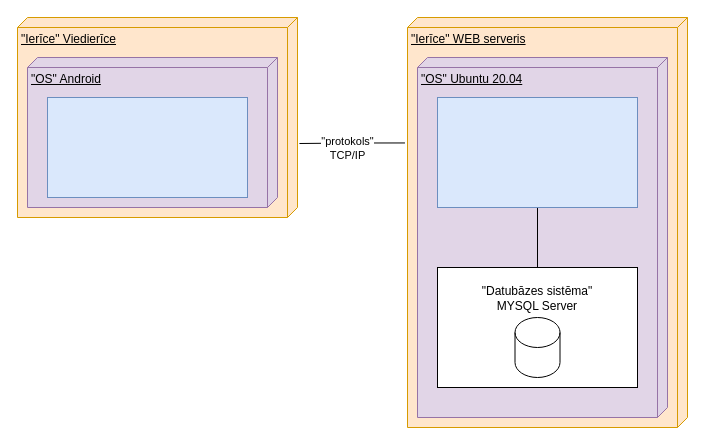
This 705x445 diagram has some shape labels left out. The shapes that lost their labels are listed below. From the top down, each one's centre as x and y in pixels, then its label:
the point at 147,147: "Mājaslapa" Recepšu lapa
the point at 537,152: "Sistēma" Recepšu sistēma
